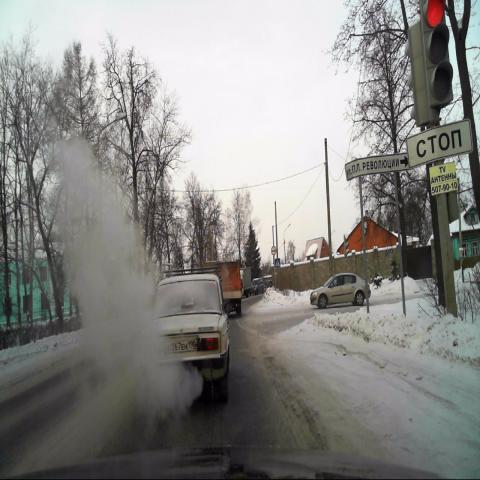6_16: (404, 119, 475, 169)
